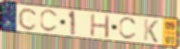1: (66, 10, 77, 36)
C: (18, 7, 39, 32), (118, 16, 139, 41), (39, 9, 60, 33)
H: (90, 12, 111, 39)
K: (143, 18, 160, 44)
